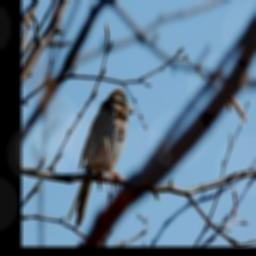Sparrow: (64, 85, 133, 227)
